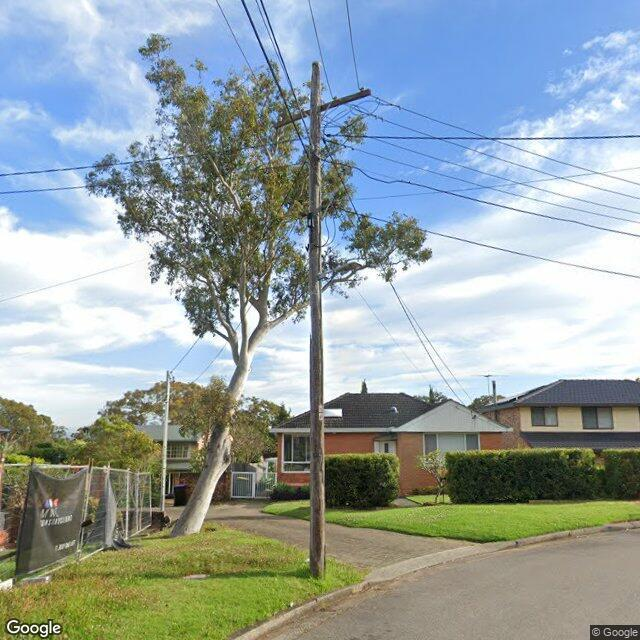crossarm: (273, 87, 372, 128)
steel-pole: (160, 370, 171, 511)
timber-pole: (309, 63, 327, 576)
